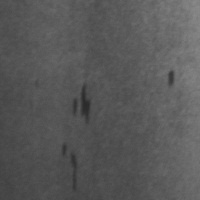inclusion: (59, 139, 82, 194), (70, 81, 94, 127), (165, 66, 178, 93)
